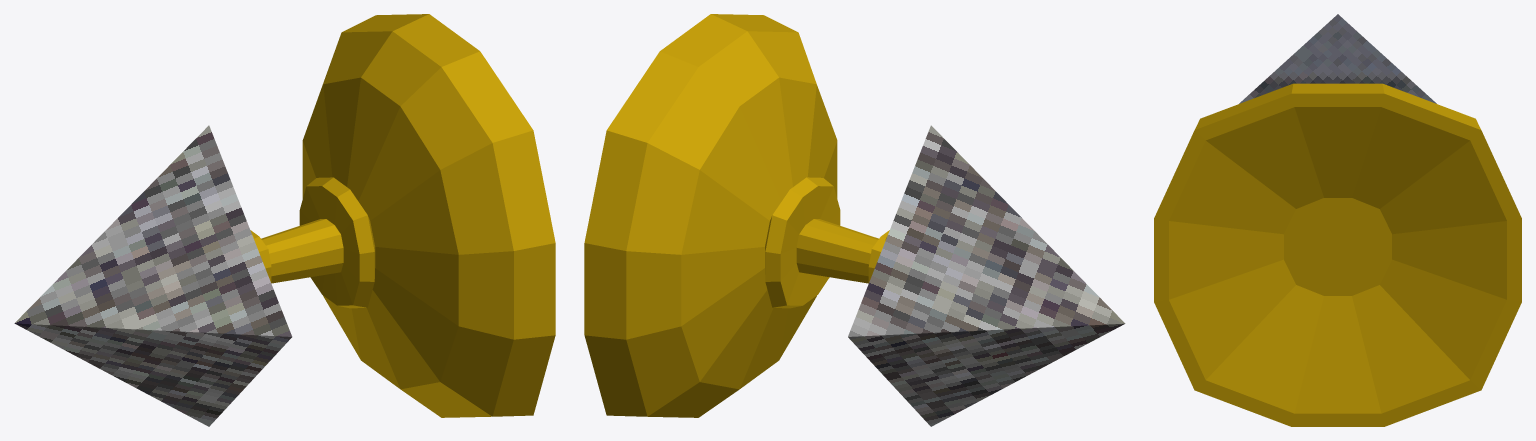
File: chalice.obj
The picture shows the model from 3 angles, left to right: view 1: azimuth 30°, elevation 25°; view 2: azimuth 150°, elevation 25°; view 3: azimuth 270°, elevation 25°; orthographic projection. The views are drawn at different scales.
Parts seen in each view (by area): view 1: LLL.006_LLL.024; view 2: LLL.006_LLL.024; view 3: LLL.006_LLL.024.
Part boxes in pixels (x1,y1,x2,y2): LLL.006_LLL.024: [14, 14, 555, 426]; LLL.006_LLL.024: [584, 14, 1125, 426]; LLL.006_LLL.024: [1154, 14, 1521, 426].
Size of the model in its own units: 22.03 by 17.46 by 17.46.
